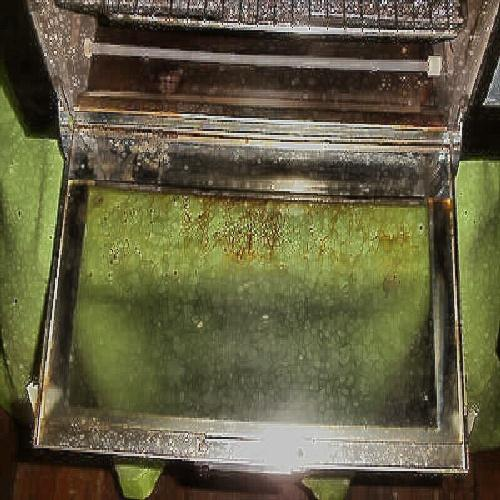toaster: (42, 39, 458, 461)
